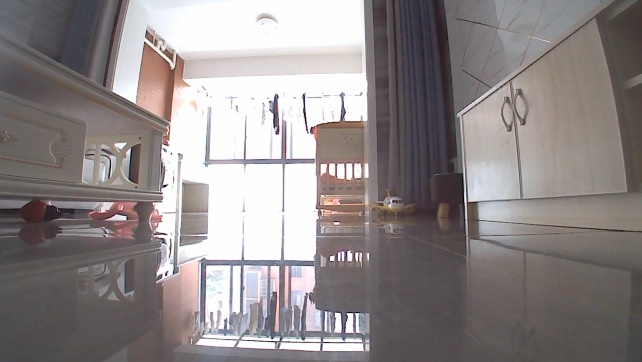TV_stand1: (450, 0, 641, 235)
plastic_toy: (14, 195, 62, 225)
tea_table1: (0, 21, 168, 226)
